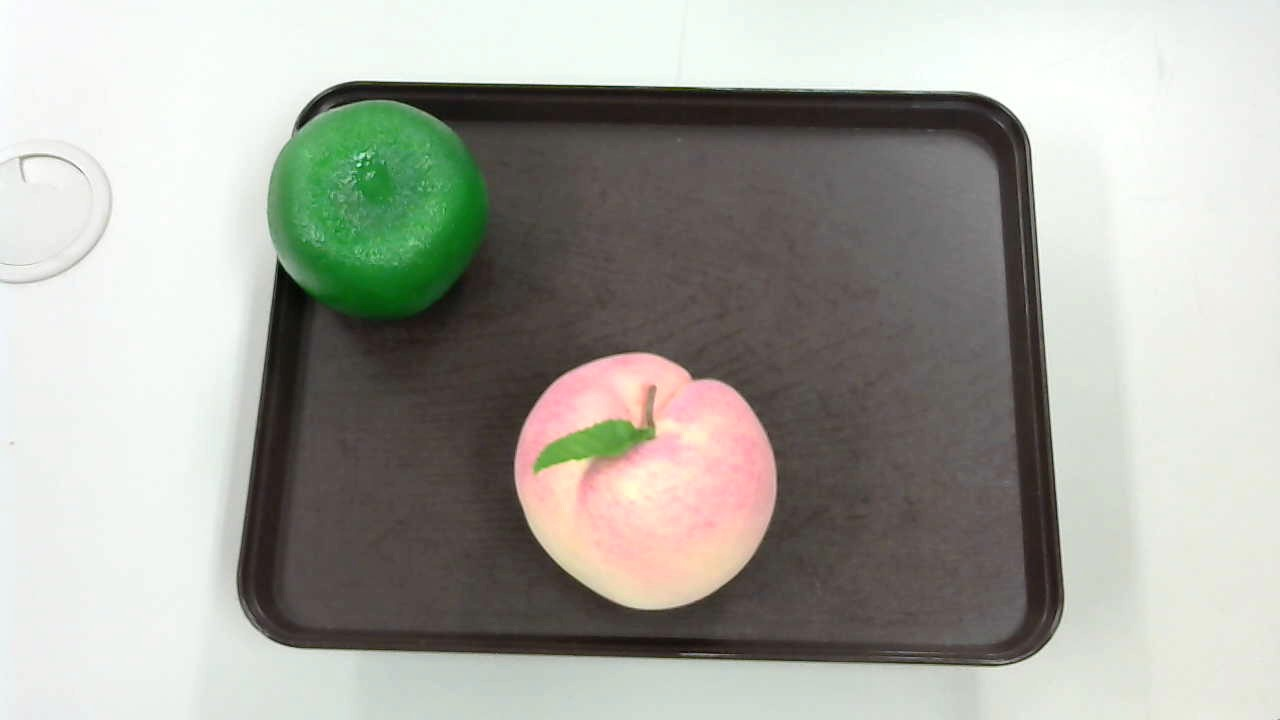green orange: (265, 93, 486, 313)
peach: (509, 342, 791, 613)
